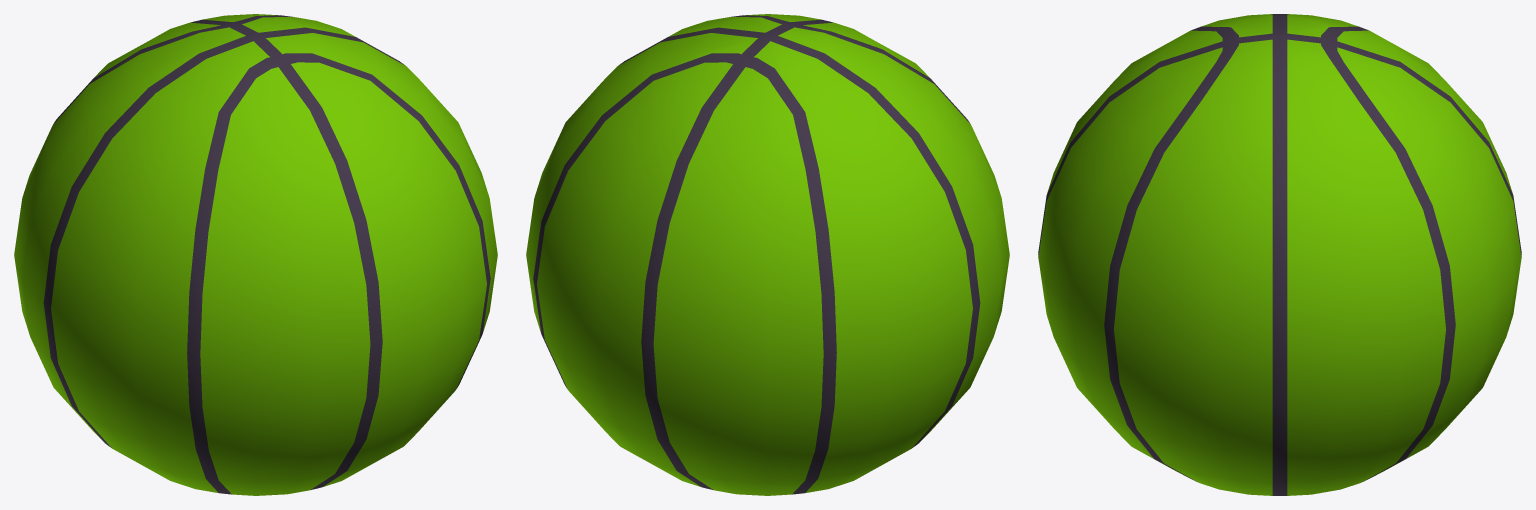
The model's file is Basketball_Green.fbx.
3 views of the same model, side by side, from view 1: azimuth 30°, elevation 25°; view 2: azimuth 150°, elevation 25°; view 3: azimuth 270°, elevation 25° (orthographic).
Visible parts, largest first — view 1: Basketball_Green; view 2: Basketball_Green; view 3: Basketball_Green.
Part boxes in pixels (x1,y1,x2,y2): Basketball_Green: [14, 14, 497, 495]; Basketball_Green: [526, 14, 1009, 495]; Basketball_Green: [1038, 14, 1521, 495].
Bounding box in the file's own units: 95.63 × 95.47 × 95.72.
